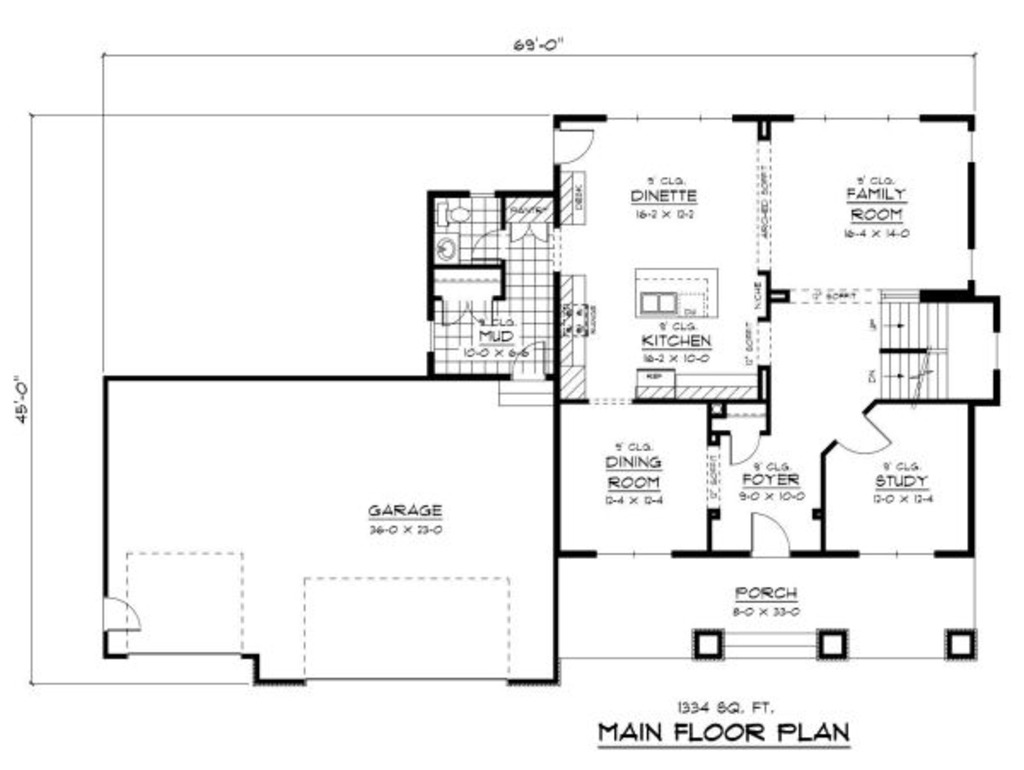door: (834, 412, 894, 456), (747, 507, 794, 558), (550, 127, 598, 168), (437, 300, 500, 329), (103, 594, 146, 632), (725, 430, 762, 465)
kitchen_bar: (628, 266, 722, 323)
large_sink: (436, 198, 473, 230)
small_sink: (432, 233, 459, 265)
stairs: (860, 300, 959, 400)
windows: (593, 110, 737, 127), (785, 111, 924, 125), (590, 548, 673, 563), (855, 547, 942, 560)
